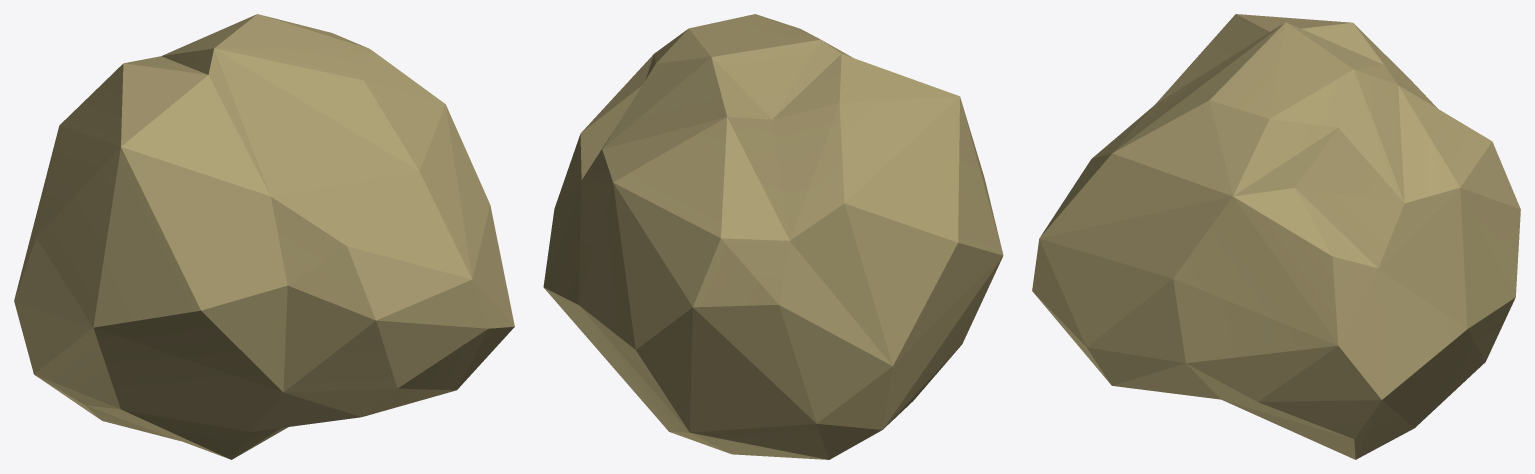
Rendered from SM_small_rock_47.fbx.
3 renders of one model, left to right at view 1: azimuth 30°, elevation 25°; view 2: azimuth 150°, elevation 25°; view 3: azimuth 270°, elevation 25°, orthographic. The views are drawn at different scales.
Visible parts, largest first — view 1: small_rock_47; view 2: small_rock_47; view 3: small_rock_47.
Boxes of the visible parts, x1,y1,x2,y2 form: small_rock_47: [14, 14, 514, 459]; small_rock_47: [543, 14, 1003, 459]; small_rock_47: [1032, 14, 1520, 459].
Size of the model in its own units: 87.66 by 84.54 by 94.93.
